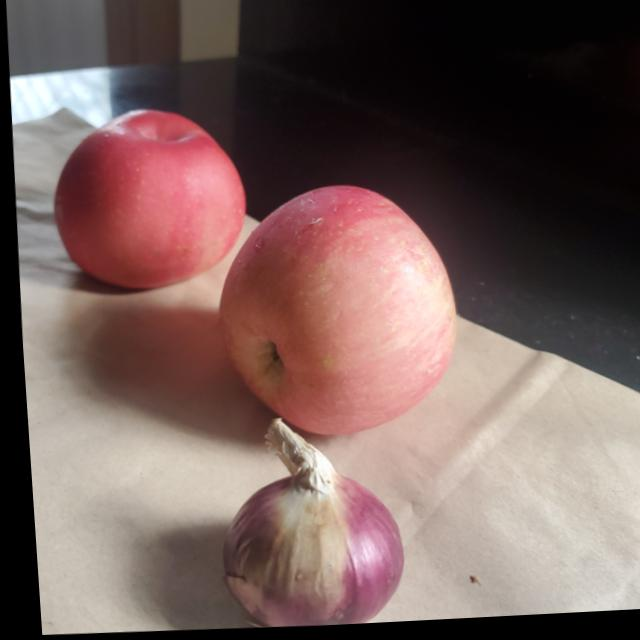apple: (206, 180, 456, 443), (44, 105, 254, 295)
onion: (207, 415, 401, 631)
